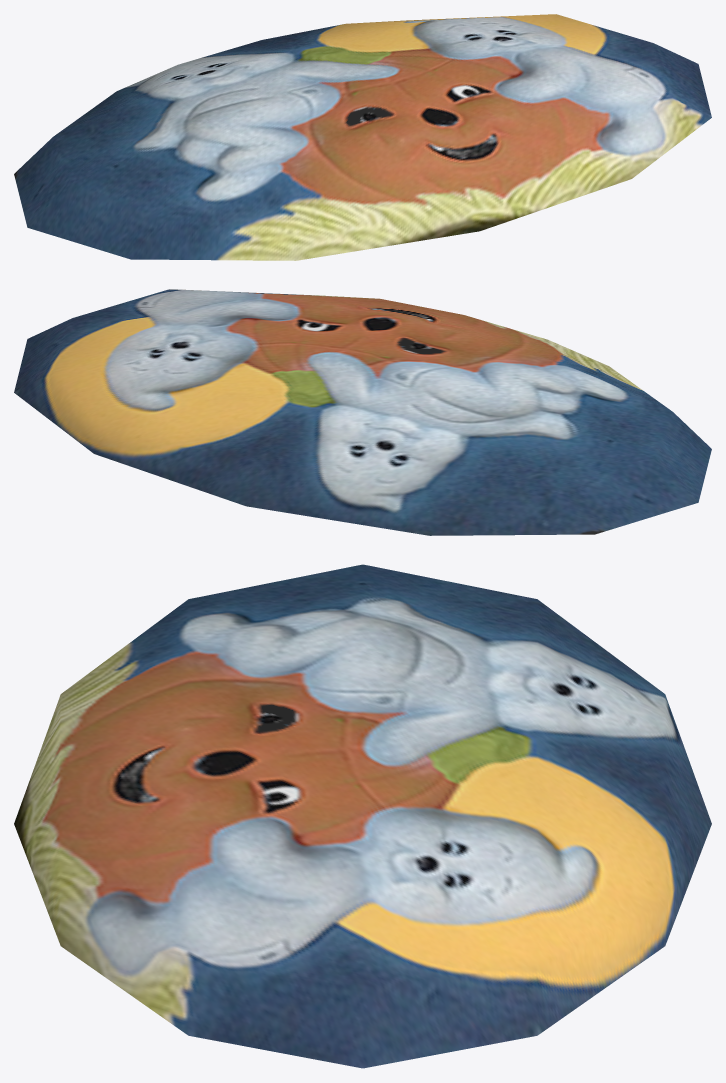
The model's file is HW_littleSculpture_1.fbx.
3 views of the same model, one above another, from view 1: azimuth 30°, elevation 25°; view 2: azimuth 150°, elevation 25°; view 3: azimuth 270°, elevation 25° (orthographic). The views are drawn at different scales.
Parts seen in each view (by area): view 1: HW_littleSculpture_1; view 2: HW_littleSculpture_1; view 3: HW_littleSculpture_1.
Part boxes in pixels (x1,y1,x2,y2): HW_littleSculpture_1: (14,14,711,260); HW_littleSculpture_1: (14,289,711,535); HW_littleSculpture_1: (14,564,711,1068).
Size of the model in its own units: 0.3498 by 0.0317 by 0.2109.
1 material, 1 textured.
